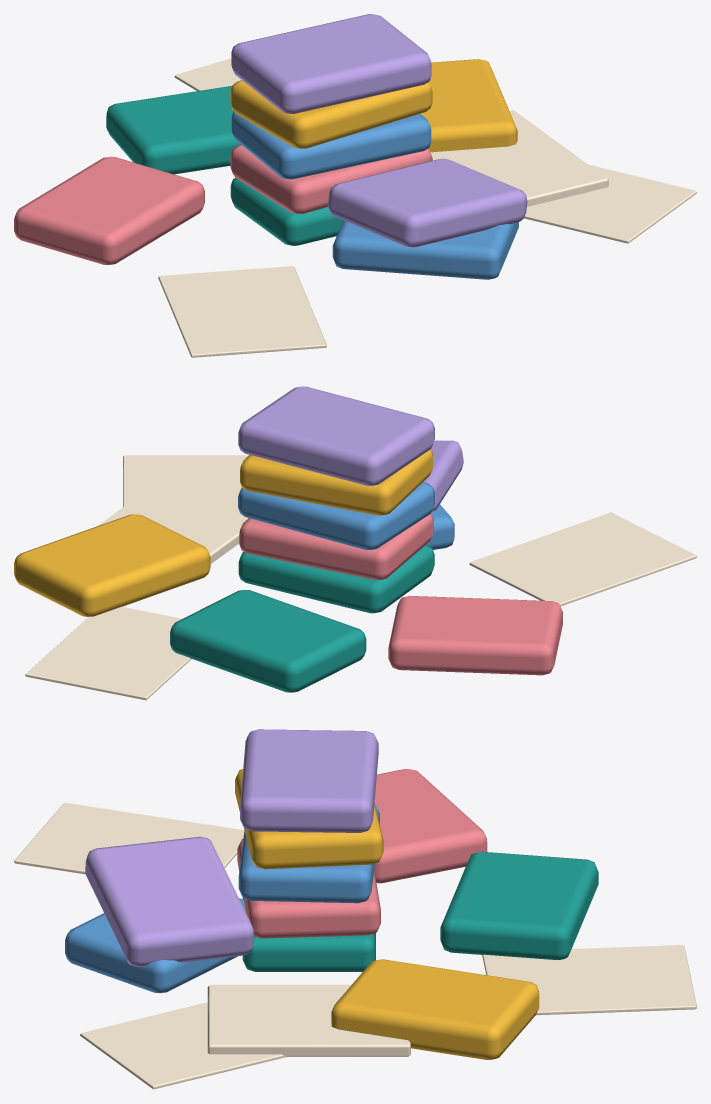
Rendered from tidy_desk_books.glb.
3 views of the same model, one above another, from view 1: azimuth 30°, elevation 25°; view 2: azimuth 150°, elevation 25°; view 3: azimuth 270°, elevation 25° (orthographic). The views are drawn at different scales.
Visible parts, largest first — view 1: TBook4, MBook0, MBookTilted, MPaper1, MBook3, MBook1, MBook2, MPaper0, TPapers, TBook3, TBook2, TBook1 (+2 smaller); view 2: TBook4, MBook3, MBook2, MBook0, MPaper1, MPaper2, TBook0, TBook2, TBook1, TBook3, TPapers, MPaper0 (+2 smaller); view 3: MBookTilted, MBook2, MBook3, TBook4, TPapers, MPaper2, MBook0, MPaper0, MPaper1, TBook3, TBook2, TBook1 (+2 smaller).
Part boxes in pixels (x1=…): TBook4: x1=231, y1=14, x2=431, y2=113; MBook0: x1=14, y1=156, x2=204, y2=264; MBookTilted: x1=327, y1=158, x2=527, y2=247; MPaper1: x1=158, y1=266, x2=326, y2=357; MBook3: x1=106, y1=86, x2=240, y2=174; MBook1: x1=332, y1=220, x2=518, y2=279; MBook2: x1=420, y1=59, x2=517, y2=152; MPaper0: x1=524, y1=164, x2=696, y2=243; TPapers: x1=430, y1=110, x2=608, y2=206; TBook3: x1=230, y1=80, x2=432, y2=148; TBook2: x1=231, y1=111, x2=431, y2=179; TBook1: x1=230, y1=145, x2=432, y2=213; TBook4: x1=238, y1=386, x2=434, y2=485; MBook3: x1=170, y1=590, x2=366, y2=692; MBook2: x1=14, y1=514, x2=210, y2=616; MBook0: x1=388, y1=596, x2=562, y2=675; MPaper1: x1=469, y1=512, x2=696, y2=606; MPaper2: x1=25, y1=606, x2=191, y2=700; TBook0: x1=238, y1=545, x2=434, y2=613; TBook2: x1=238, y1=482, x2=434, y2=549; TBook1: x1=239, y1=513, x2=433, y2=580; TBook3: x1=240, y1=449, x2=432, y2=515; TPapers: x1=98, y1=481, x2=248, y2=563; MPaper0: x1=123, y1=455, x2=248, y2=506; MBookTilted: x1=85, y1=836, x2=254, y2=967; MBook2: x1=331, y1=959, x2=539, y2=1059; MBook3: x1=440, y1=851, x2=598, y2=959; TBook4: x1=240, y1=729, x2=378, y2=832; TPapers: x1=207, y1=984, x2=410, y2=1056; MPaper2: x1=482, y1=945, x2=696, y2=1015; MBook0: x1=374, y1=769, x2=487, y2=883; MPaper0: x1=80, y1=1002, x2=286, y2=1089; MPaper1: x1=14, y1=802, x2=244, y2=874; TBook3: x1=235, y1=769, x2=383, y2=869; TBook2: x1=238, y1=804, x2=379, y2=903; TBook1: x1=237, y1=839, x2=380, y2=938.
Bounding box in the file's own units: 0.9834 × 0.275 × 0.9749.
